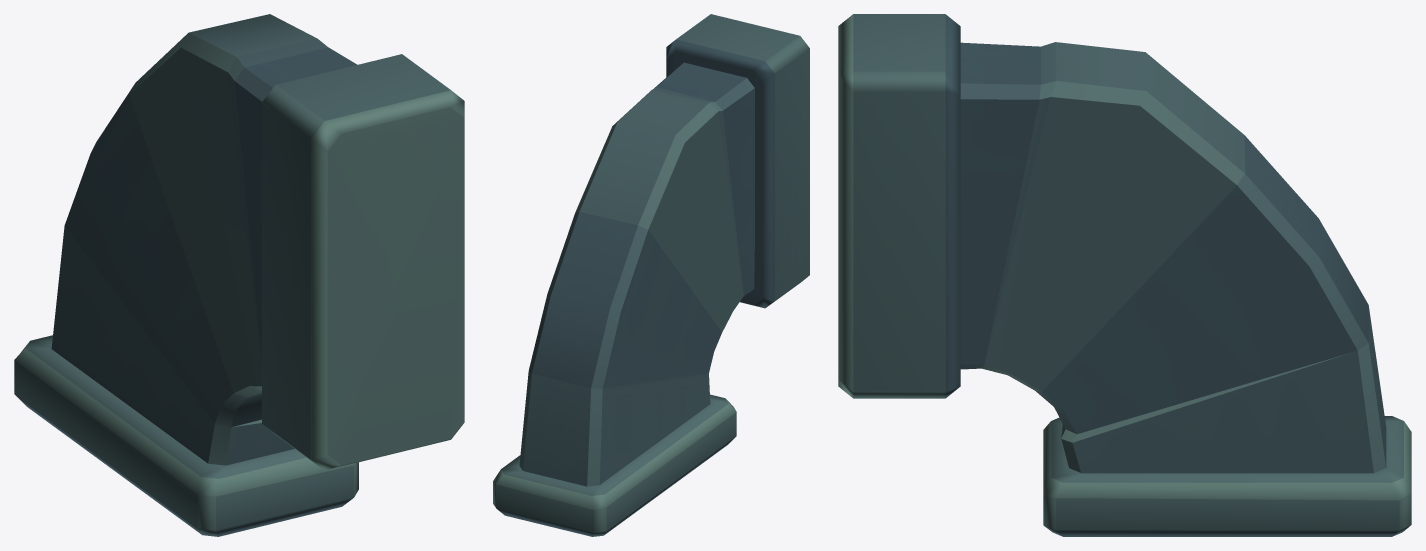
The model's file is pillar_narrow_arch.fbx.
The picture shows the model from 3 angles, left to right: view 1: azimuth 30°, elevation 25°; view 2: azimuth 150°, elevation 25°; view 3: azimuth 270°, elevation 25°; orthographic projection. The views are drawn at different scales.
Visible parts, largest first — view 1: pillar_narrow_arch; view 2: pillar_narrow_arch; view 3: pillar_narrow_arch.
Part boxes in pixels (x1,y1,x2,y2): pillar_narrow_arch: (14,14,464,536); pillar_narrow_arch: (493,14,809,536); pillar_narrow_arch: (838,14,1411,536).
Size of the model in its own units: 80.07 by 235 by 264.
